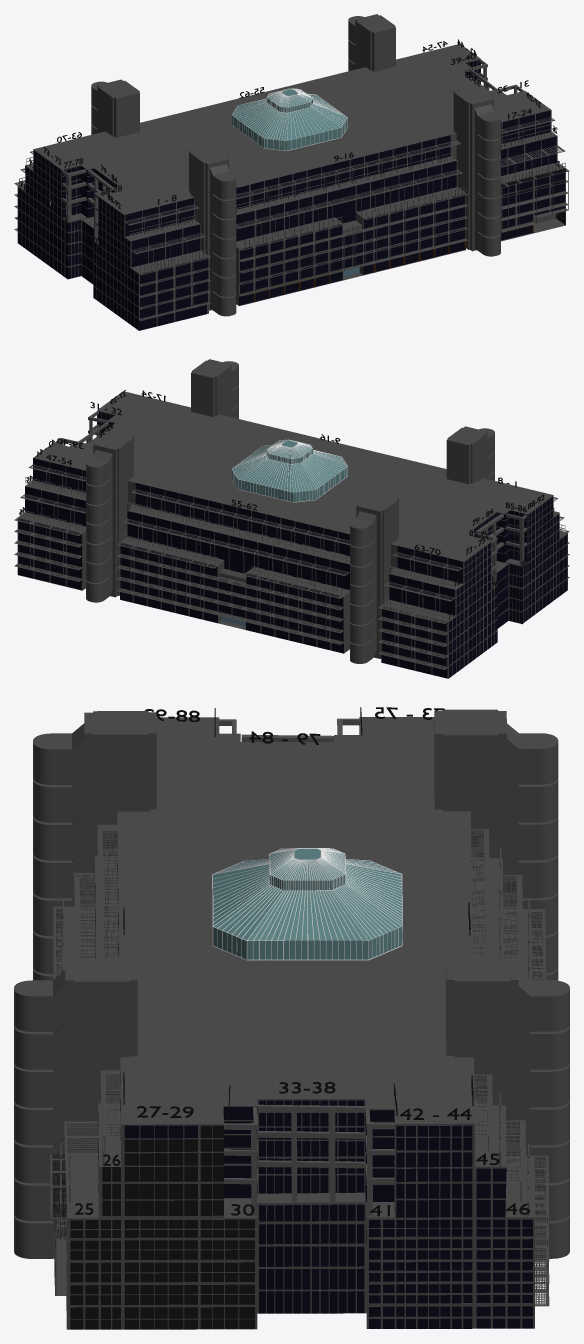
Rendered from 1FinsburyAvenue.glb.
The picture shows the model from 3 angles, top to bottom: view 1: azimuth 30°, elevation 25°; view 2: azimuth 150°, elevation 25°; view 3: azimuth 270°, elevation 25°; orthographic projection. The views are drawn at different scales.
Visible parts, largest first — view 1: 1fa, Plane.075, Drop12, Plane.076, Drop10, Drop16, Drop15, Drop13, Drop14, Drop11, Drop9, Drop73 (+25 smaller); view 2: 1fa, Plane.075, Drop58, Plane.076, Drop56, Drop59, Drop60, Drop62, Drop61, Drop57, Drop55, Drop73 (+25 smaller); view 3: 1fa, Plane.075, Plane.076, Drop28, Drop44, Drop27, Drop29, Drop45, Drop43, Drop42, Drop36, Drop34 (+9 smaller).
Part boxes in pixels (x1,y1,x2,y2): 1fa: (14, 14, 569, 330); Plane.075: (232, 88, 347, 150); Drop12: (236, 170, 456, 241); Plane.076: (232, 88, 347, 150); Drop10: (236, 142, 450, 209); Drop16: (240, 228, 465, 293); Drop15: (239, 217, 465, 282); Drop13: (240, 194, 465, 259); Drop14: (240, 207, 465, 270); Drop11: (236, 161, 456, 223); Drop9: (236, 135, 450, 194); Drop73: (34, 151, 45, 262); 1fa: (14, 359, 569, 678); Plane.075: (231, 439, 347, 502); Drop58: (127, 520, 349, 590); Plane.076: (231, 439, 347, 502); Drop56: (135, 490, 349, 556); Drop59: (120, 543, 342, 606); Drop60: (120, 555, 343, 618); Drop62: (120, 578, 343, 641); Drop61: (120, 567, 343, 629); Drop57: (127, 511, 349, 572); Drop55: (135, 483, 349, 540); Drop73: (464, 554, 475, 666); 1fa: (14, 709, 569, 1329); Plane.075: (213, 848, 402, 959); Plane.076: (212, 848, 402, 960); Drop28: (154, 1125, 197, 1329); Drop44: (440, 1125, 472, 1328); Drop27: (124, 1125, 153, 1329); Drop29: (200, 1125, 223, 1329); Drop45: (476, 1168, 506, 1328); Drop43: (417, 1126, 439, 1328); Drop42: (396, 1126, 415, 1328); Drop36: (311, 1100, 328, 1313); Drop34: (275, 1100, 292, 1313).
Bounding box in the file's own units: 192 × 62.08 × 109.
Materials: 9 (1 with a texture image).
